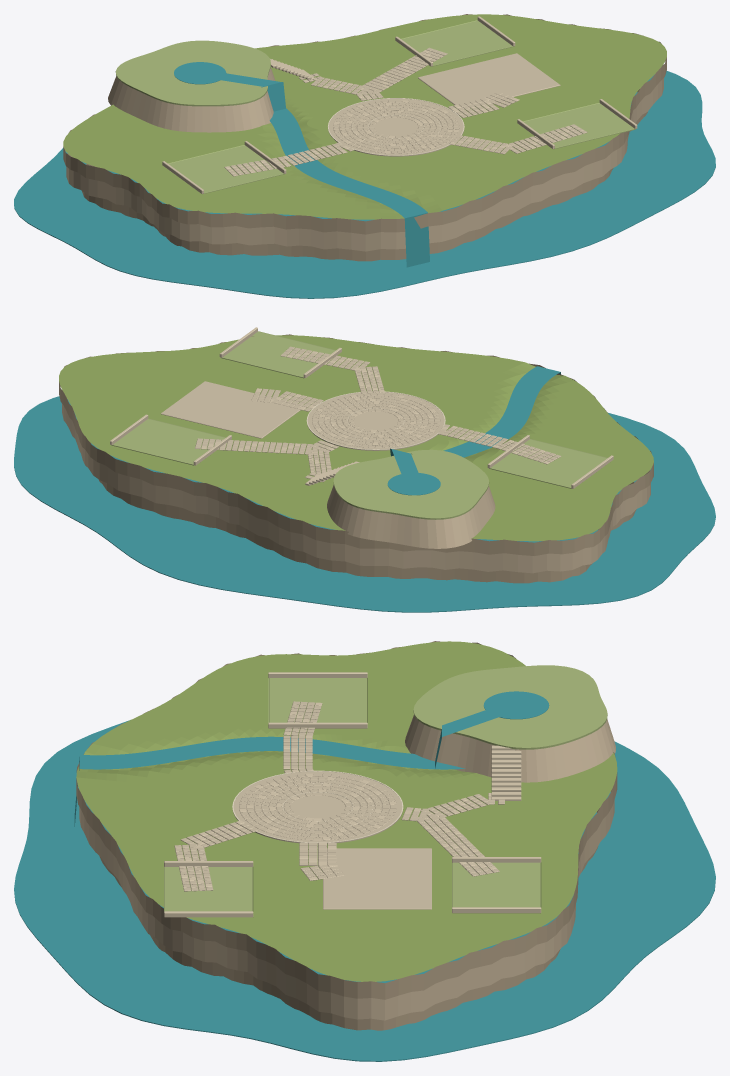
Rendered from terrain.glb.
3 views of the same model, one above another, from view 1: azimuth 30°, elevation 25°; view 2: azimuth 150°, elevation 25°; view 3: azimuth 270°, elevation 25° (orthographic). The views are drawn at different scales.
Visible parts, largest first — view 1: TerrainBatch__City_Grass, TerrainBatch__City_Water, TerrainBatch__City_Paving, TerrainBatch__City_Meadow, TerrainBatch__City_Cliff_Light, TerrainBatch__City_Cliff, TerrainBatch__City_Limestone, TerrainBatch__City_Cream; view 2: TerrainBatch__City_Grass, TerrainBatch__City_Water, TerrainBatch__City_Paving, TerrainBatch__City_Cliff_Light, TerrainBatch__City_Meadow, TerrainBatch__City_Cliff, TerrainBatch__City_Limestone, TerrainBatch__City_Cream; view 3: TerrainBatch__City_Grass, TerrainBatch__City_Water, TerrainBatch__City_Paving, TerrainBatch__City_Meadow, TerrainBatch__City_Cliff_Light, TerrainBatch__City_Cliff, TerrainBatch__City_Limestone, TerrainBatch__City_Cream.
Part boxes in pixels (<box>): TerrainBatch__City_Grass: <box>63,14,666,219</box>; TerrainBatch__City_Water: <box>14,62,715,298</box>; TerrainBatch__City_Paving: <box>226,47,587,176</box>; TerrainBatch__City_Meadow: <box>115,20,635,193</box>; TerrainBatch__City_Cliff_Light: <box>66,64,663,251</box>; TerrainBatch__City_Cliff: <box>63,14,666,261</box>; TerrainBatch__City_Limestone: <box>162,16,637,193</box>; TerrainBatch__City_Cream: <box>328,98,464,155</box>; TerrainBatch__City_Grass: <box>59,335,653,541</box>; TerrainBatch__City_Water: <box>14,366,715,612</box>; TerrainBatch__City_Paving: <box>161,346,561,482</box>; TerrainBatch__City_Cliff_Light: <box>62,404,650,573</box>; TerrainBatch__City_Meadow: <box>111,331,607,519</box>; TerrainBatch__City_Cliff: <box>59,334,653,583</box>; TerrainBatch__City_Limestone: <box>110,327,613,488</box>; TerrainBatch__City_Cream: <box>306,391,445,449</box>; TerrainBatch__City_Grass: <box>76,641,617,981</box>; TerrainBatch__City_Water: <box>14,691,715,1061</box>; TerrainBatch__City_Paving: <box>174,701,504,909</box>; TerrainBatch__City_Meadow: <box>164,665,607,911</box>; TerrainBatch__City_Cliff_Light: <box>79,715,615,1020</box>; TerrainBatch__City_Cliff: <box>76,641,617,1030</box>; TerrainBatch__City_Limestone: <box>164,672,541,917</box>; TerrainBatch__City_Cream: <box>232,770,403,842</box>.
Size of the model in its own units: 93.26 by 10.28 by 70.71.
